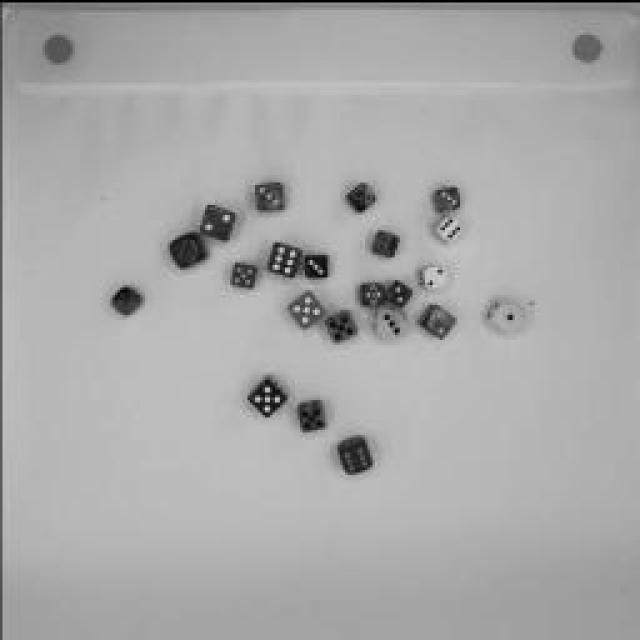dice_1: (476, 290, 529, 332)
dice_2: (417, 299, 465, 339), (199, 198, 241, 242), (381, 272, 421, 308), (416, 259, 449, 289)
dice_3: (248, 175, 292, 217), (416, 179, 466, 211), (371, 305, 414, 340), (100, 279, 140, 316), (302, 246, 342, 282)
dice_4: (364, 228, 411, 262)
dice_5: (230, 362, 292, 420), (272, 284, 330, 326), (322, 304, 362, 346), (163, 228, 205, 268), (224, 254, 261, 291), (295, 390, 327, 432), (340, 179, 382, 209)
dice_6: (332, 431, 376, 479), (266, 235, 299, 280), (425, 214, 470, 244), (359, 275, 389, 307)
